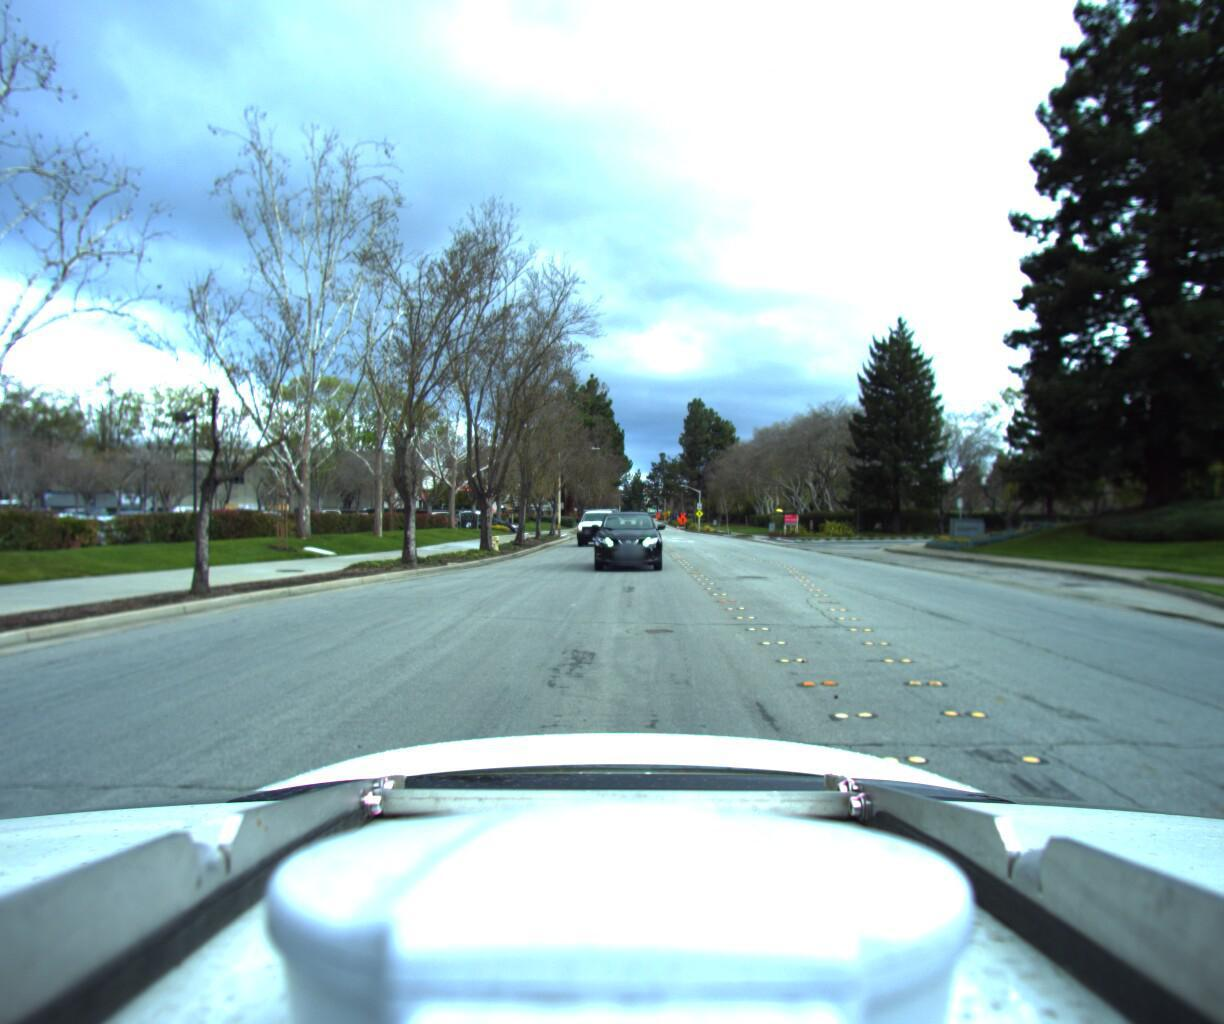car: (591, 503, 661, 568), (572, 502, 621, 543)
